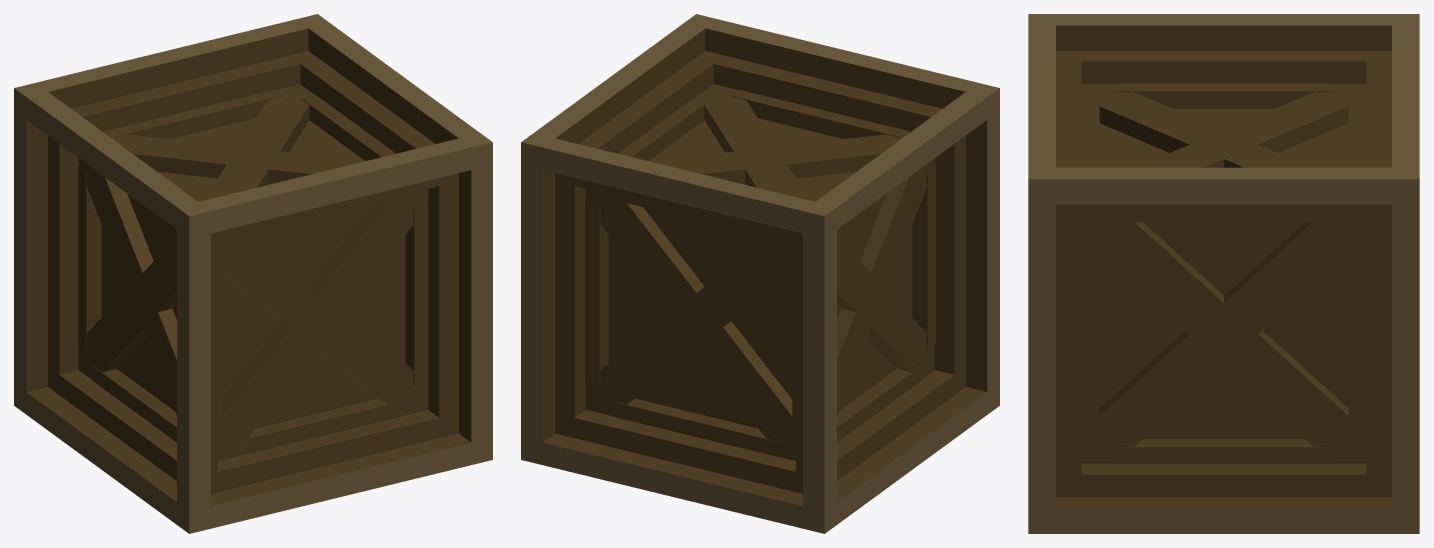
3 views of the same model, side by side, from view 1: azimuth 30°, elevation 25°; view 2: azimuth 150°, elevation 25°; view 3: azimuth 270°, elevation 25° (orthographic). The views are drawn at different scales.
Visible parts, largest first — view 1: Cube; view 2: Cube; view 3: Cube.
Boxes of the visible parts, <box> form: Cube: <box>14,14,492,533</box>; Cube: <box>521,14,999,533</box>; Cube: <box>1028,14,1419,533</box>.
Size of the model in its own units: 200 by 200 by 200.
